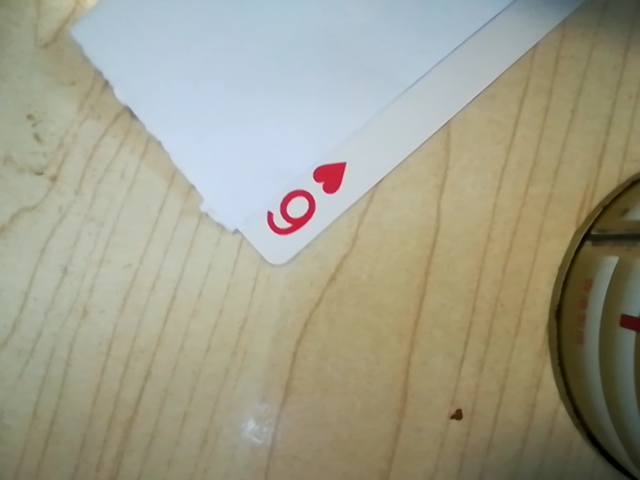hx 6: (254, 157, 351, 245)
